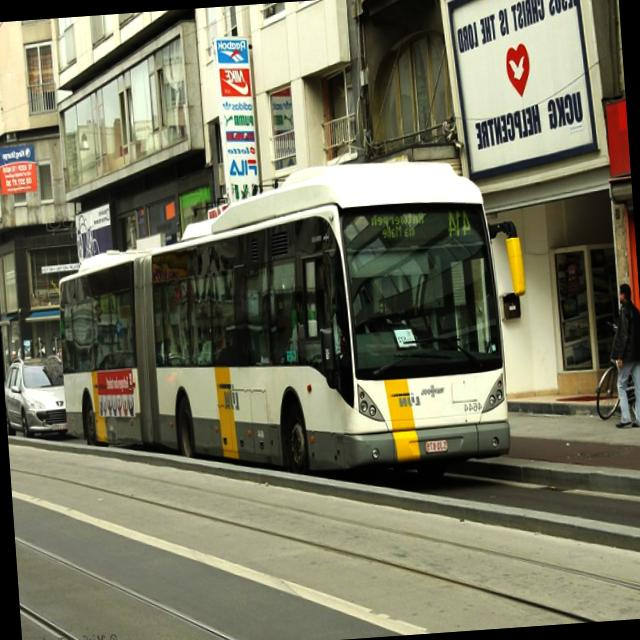bus-number: (446, 208, 472, 239)
